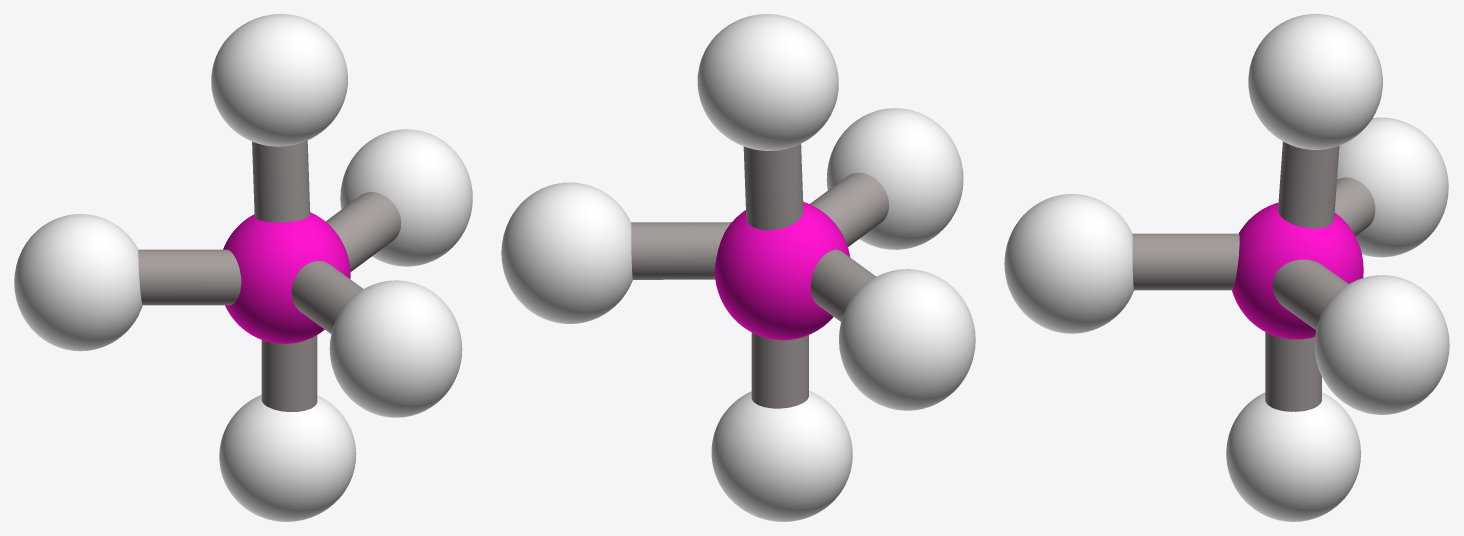
File: trigonalbipyramidal.fbx
3 views of the same model, side by side, from view 1: azimuth 30°, elevation 25°; view 2: azimuth 150°, elevation 25°; view 3: azimuth 270°, elevation 25° (orthographic). The views are drawn at different scales.
Parts seen in each view (by area): view 1: root (×13); view 2: root (×13); view 3: root (×13).
Boxes of the visible parts, <box> form: root (×13): <box>14,14,472,521</box>; root (×13): <box>501,14,975,521</box>; root (×13): <box>1004,14,1449,521</box>.
Size of the model in its own units: 0.5904 by 0.6221 by 0.5065.
Materials: 6 (6 with a texture image).
